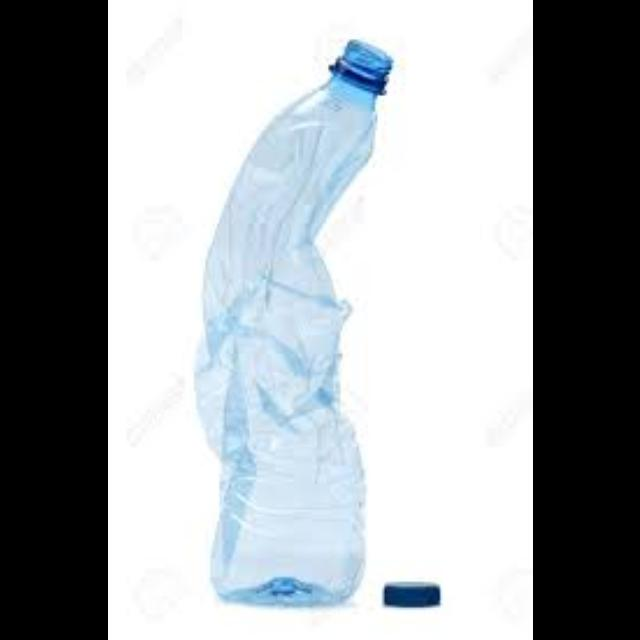trash: (188, 29, 442, 605)
